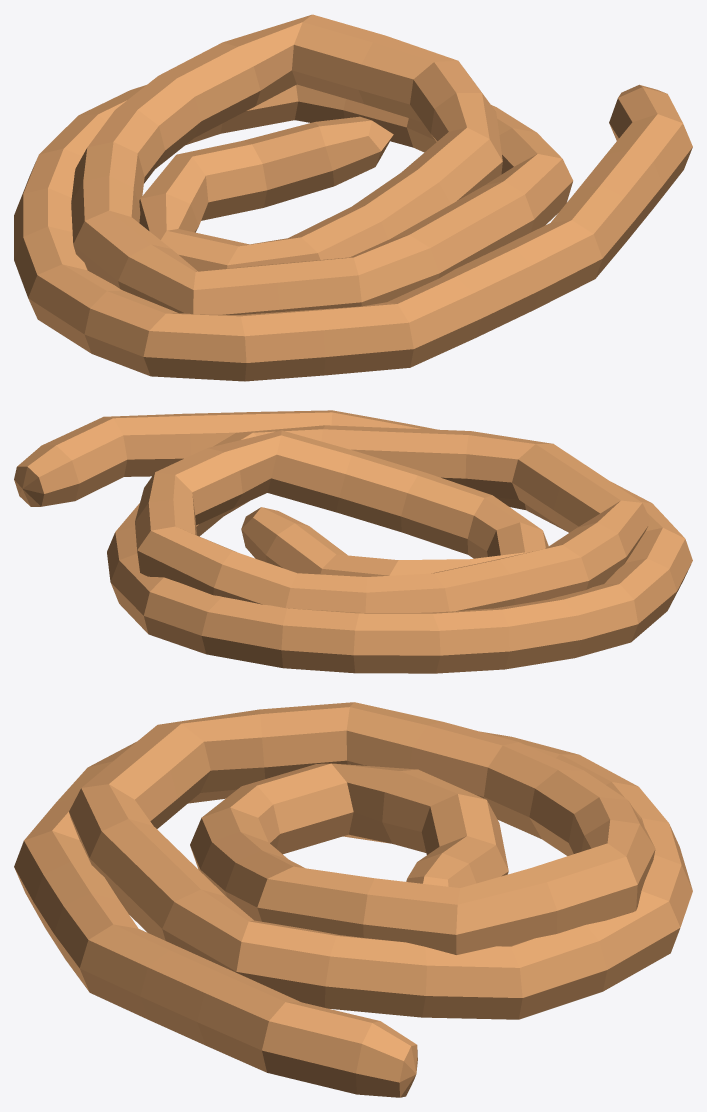
The model's file is Corde .fbx.
3 views of the same model, one above another, from view 1: azimuth 30°, elevation 25°; view 2: azimuth 150°, elevation 25°; view 3: azimuth 270°, elevation 25° (orthographic). The views are drawn at different scales.
Visible parts, largest first — view 1: Cube; view 2: Cube; view 3: Cube.
Part boxes in pixels (x1,y1,x2,y2): Cube: [14, 14, 692, 381]; Cube: [14, 410, 692, 673]; Cube: [14, 702, 692, 1097].
Size of the model in its own units: 515 by 95.91 by 410.
